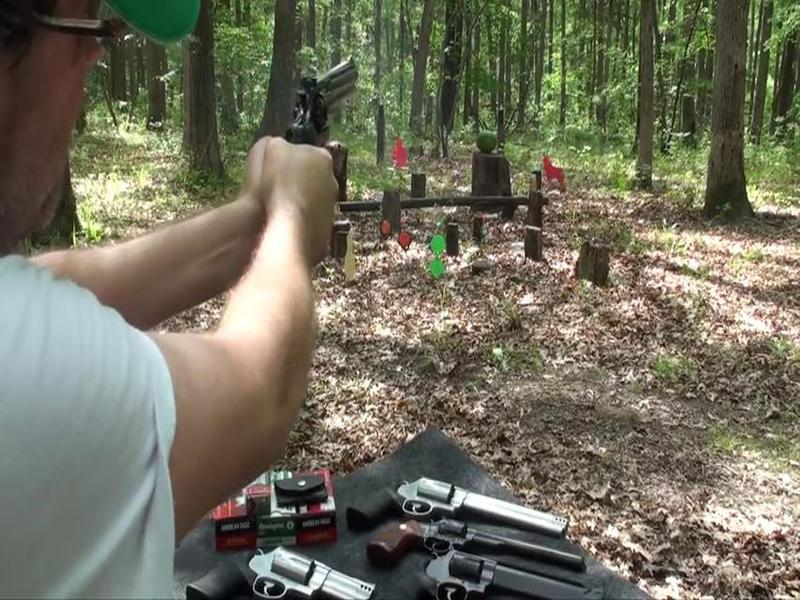Revolver: (278, 45, 389, 171)
